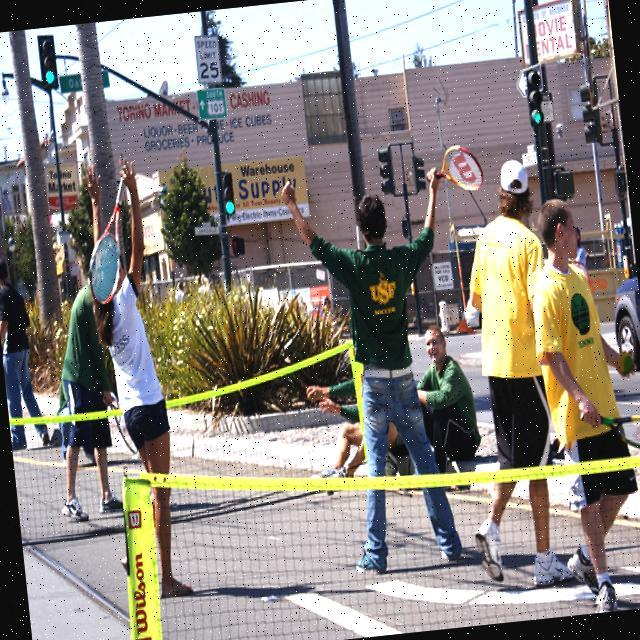fire_hydrant: (436, 298, 452, 334)
